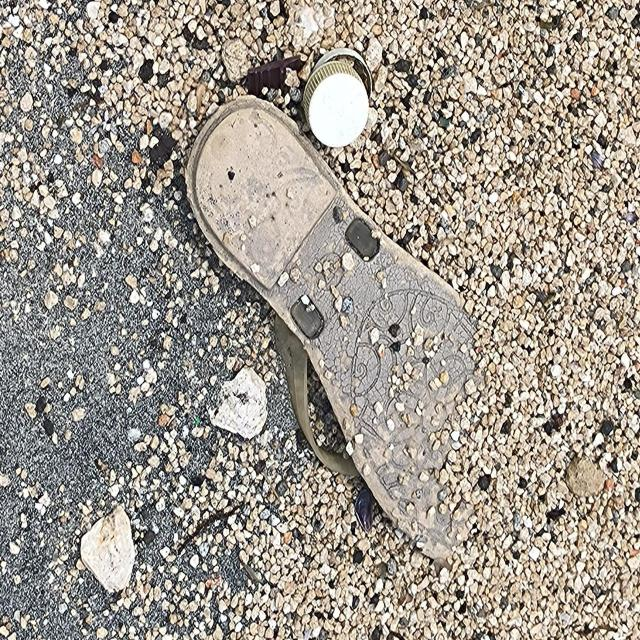plastic_waste: (303, 49, 371, 147)
rubber_waste: (188, 93, 484, 571)
